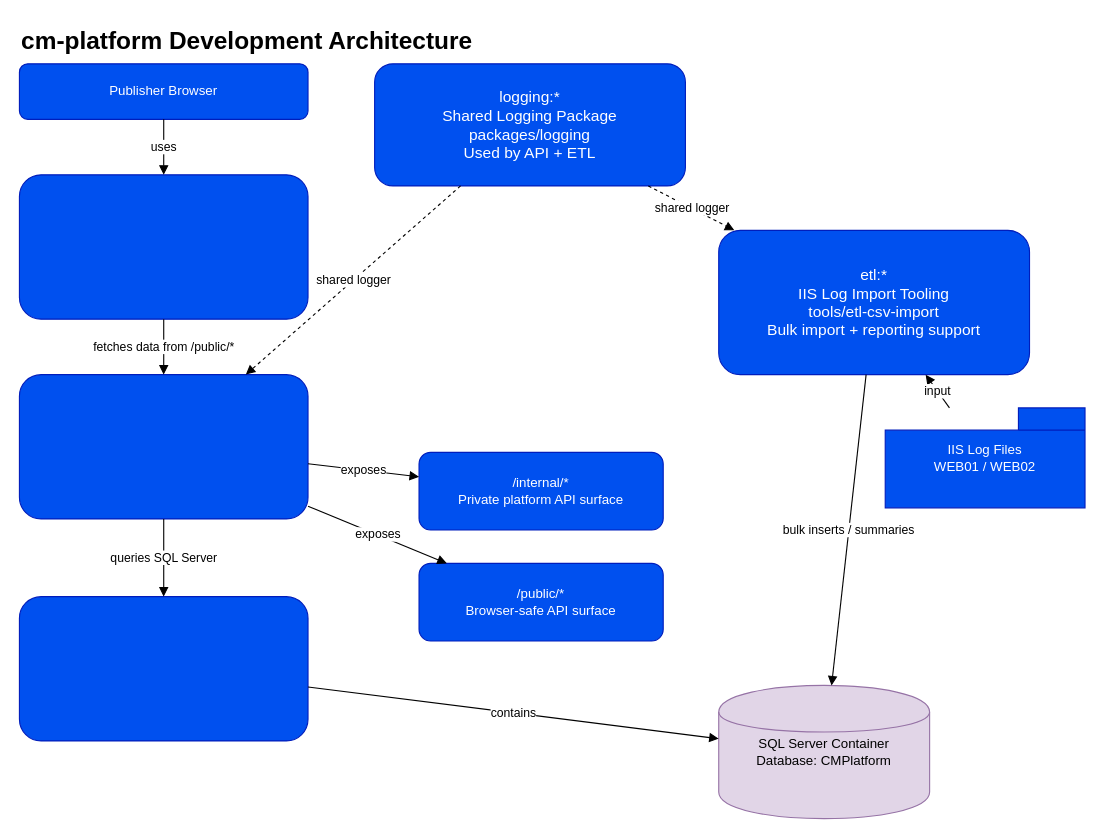
Image size: 1104x838. Some labels were removed from this diagram. The shapes that lost their labels are listed below. From the top down, each one's centre as x and y in pixels, then its label:
At point (163, 246): "publisher:* Public Website apps/publisher-web Vite + TypeScript + Bootstrap".
At point (163, 446): "api:* Fastify Backend apps/svc-core /public + /internal routes".
At point (163, 668): "infra:* Docker / SQL Server docker/compose.dev.yml CMPlatform database".
